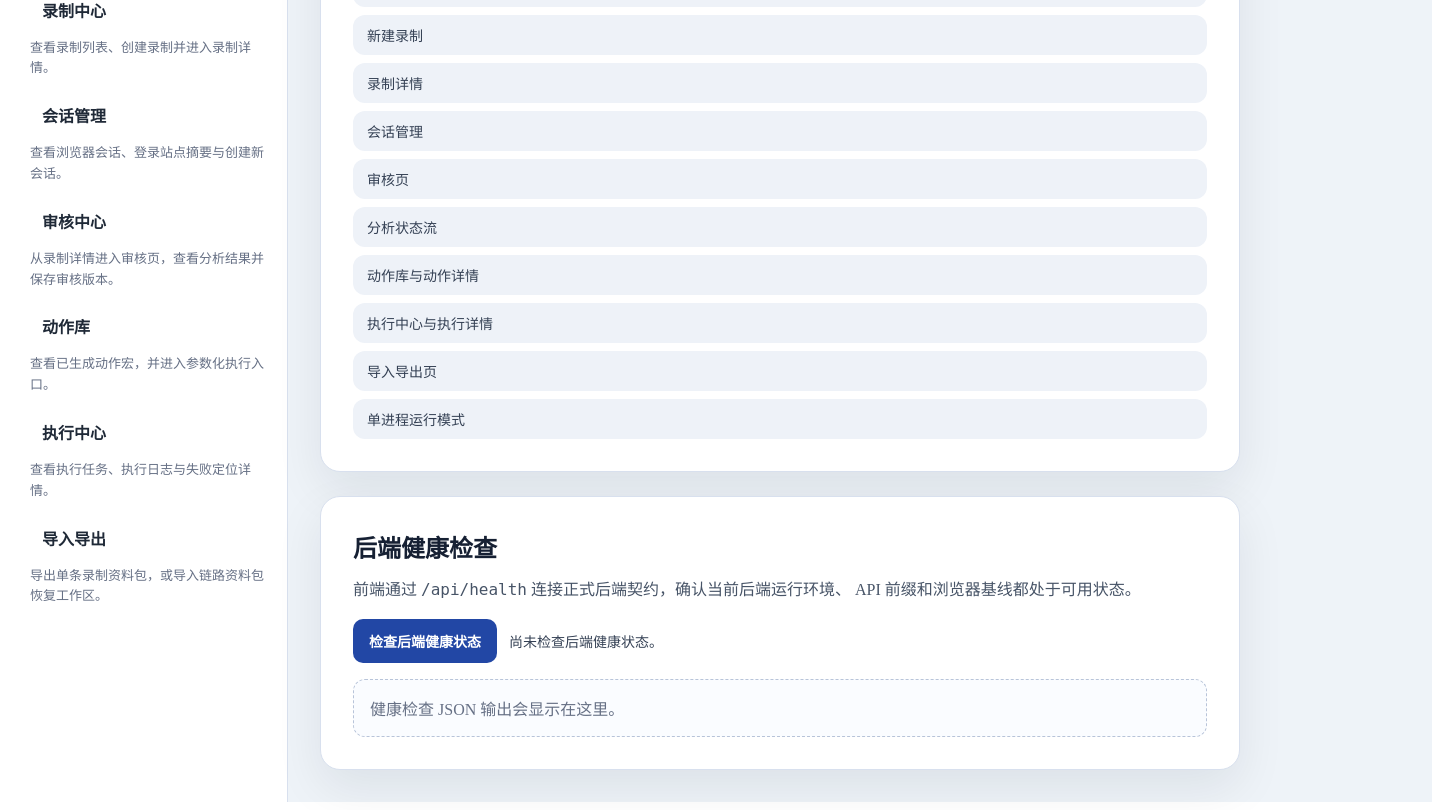
Test: App › renders the formal health contract when backend check succeeds
(page scrolled)
Click the button "检查后端健康状态": [425, 641] box [353, 619, 497, 663]
(page scrolled)
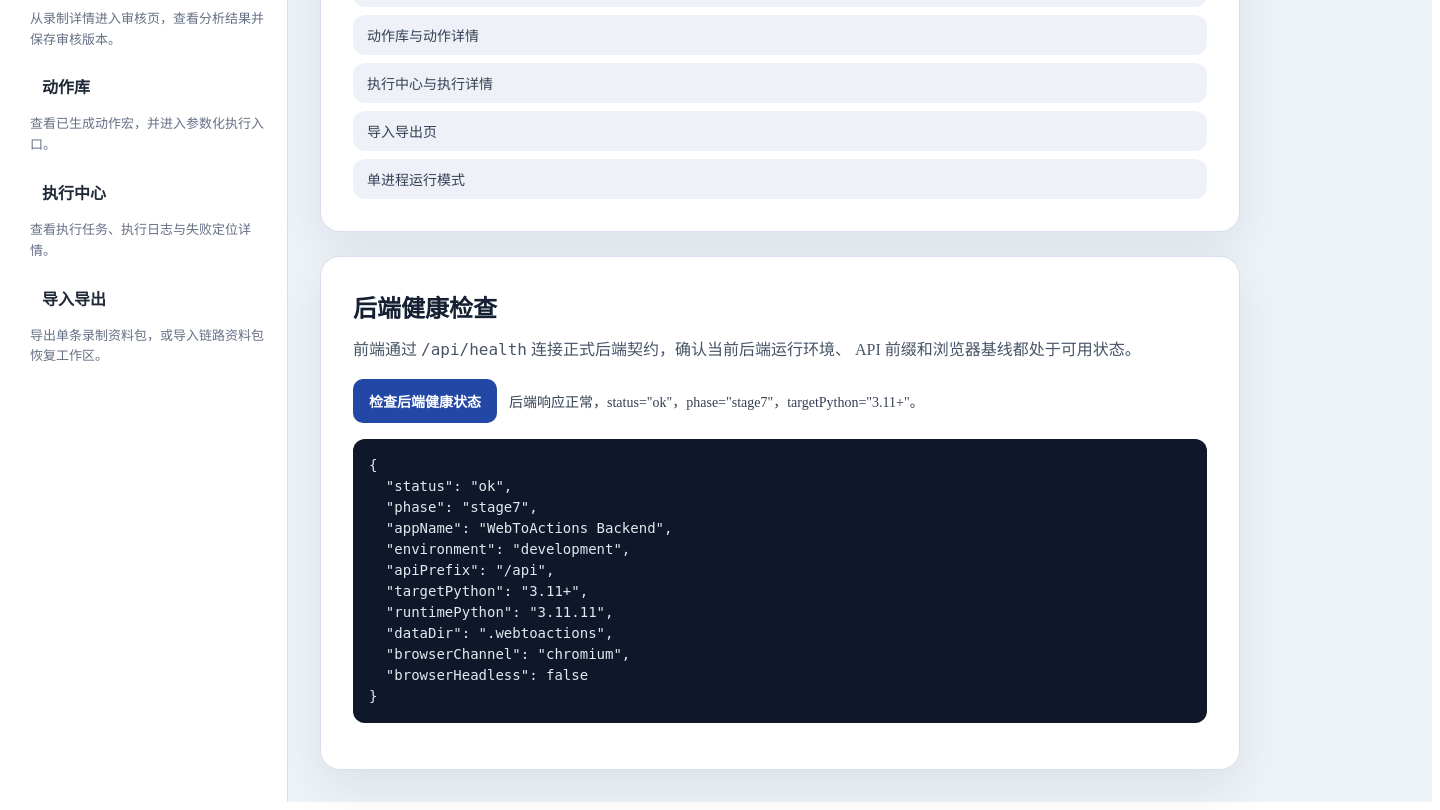
Result: the text "后端响应正常，status=\"ok\"，phase=\"stage7\"，targetPython=\"3.11+\"。" is shown at [509, 391, 924, 411]
Result: the text "\"phase\": \"stage7\"" is shown at [369, 457, 672, 704]
